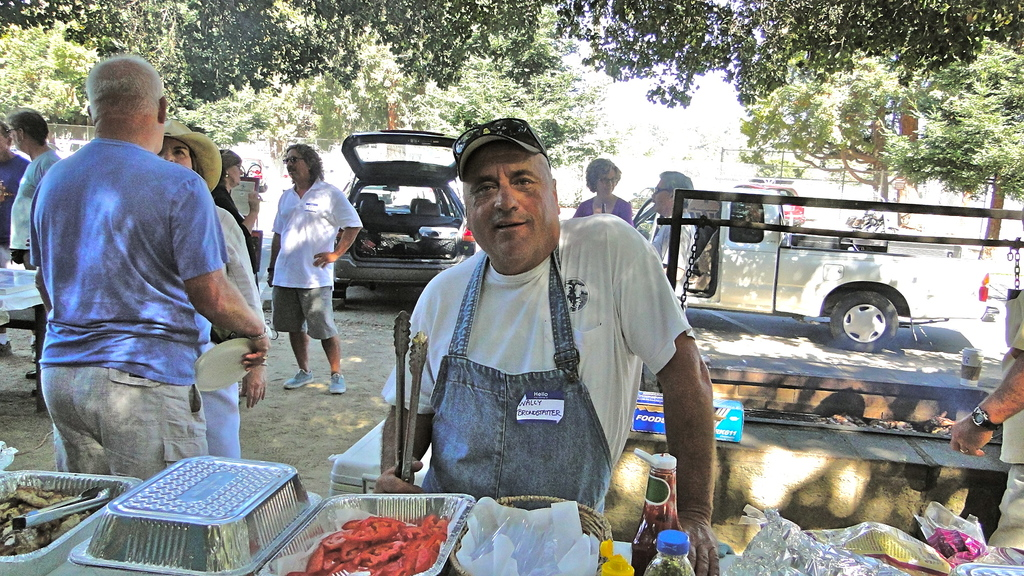Car: (650, 188, 997, 365), (335, 124, 472, 308)
